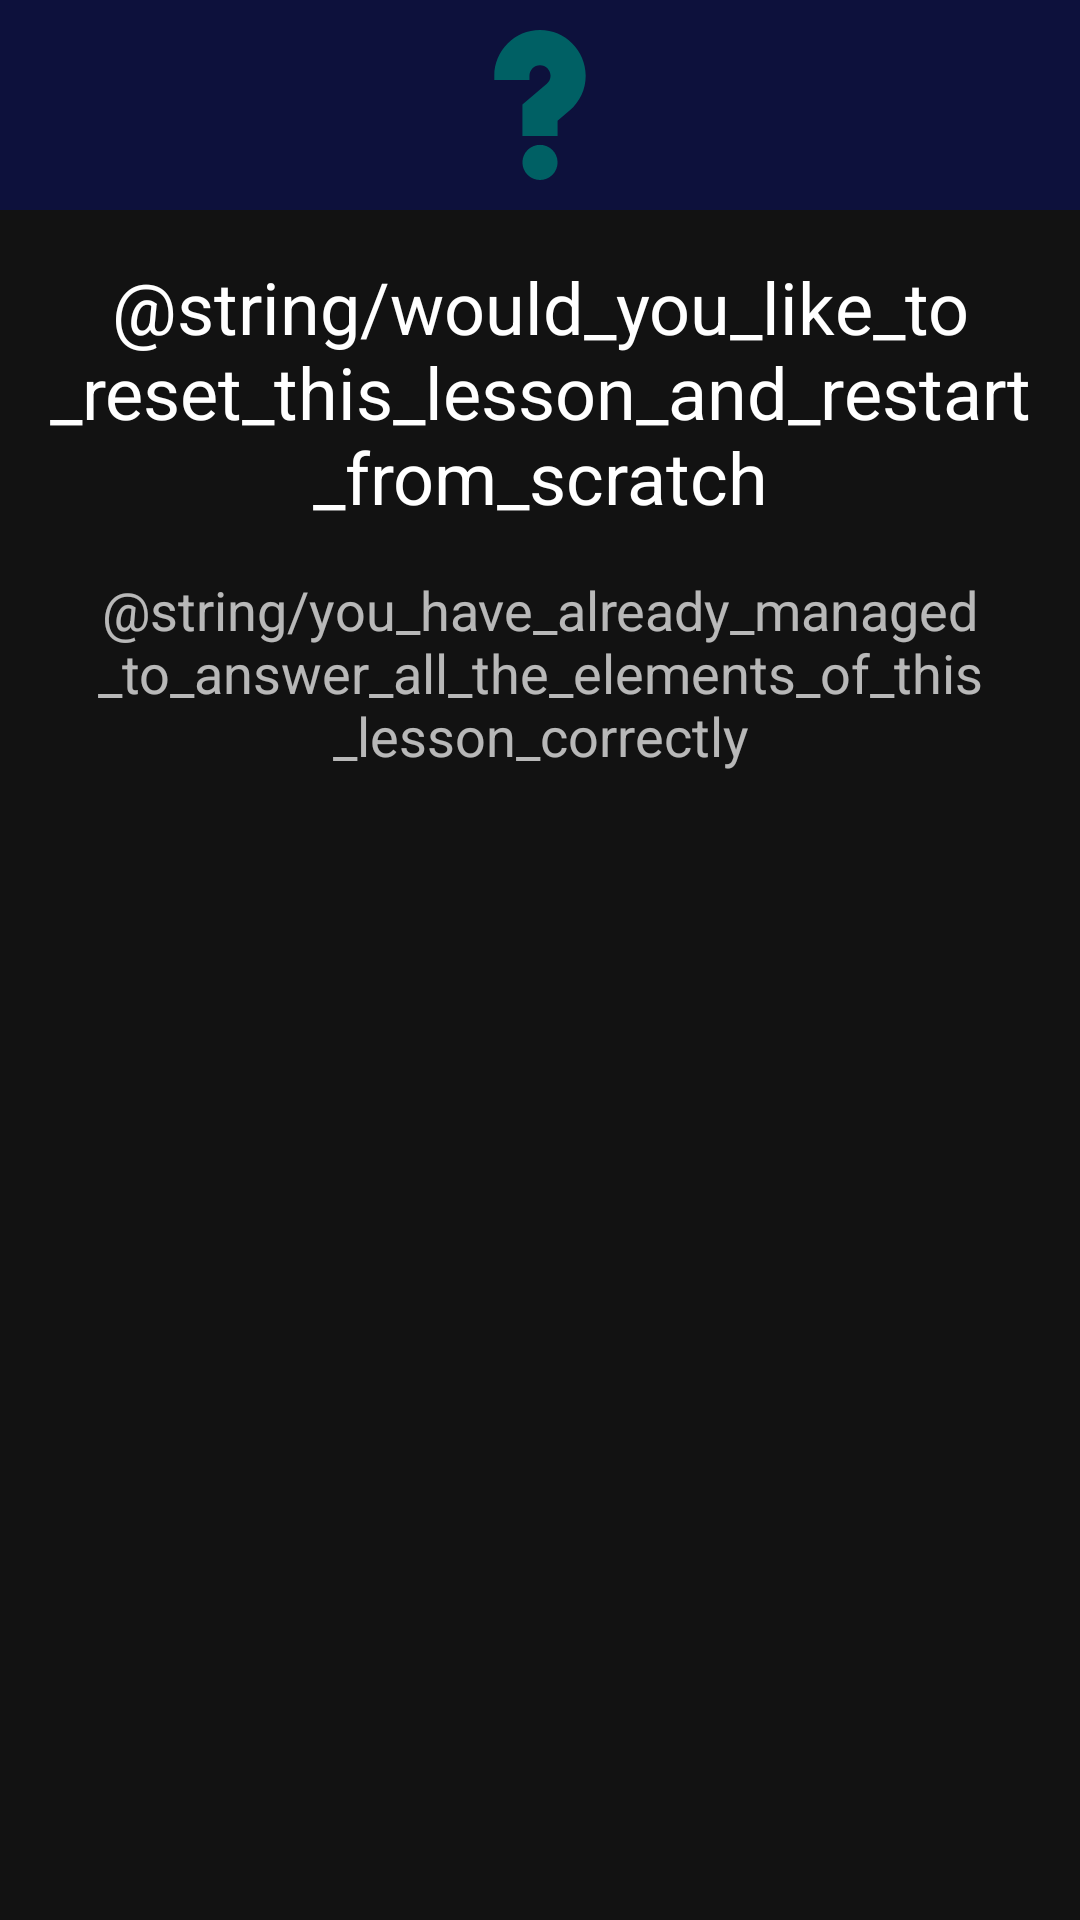

Where icons sit on this 1080 × 1920 app screen, as (x1, y1, x2, y2):
question: (494, 30, 586, 180)
